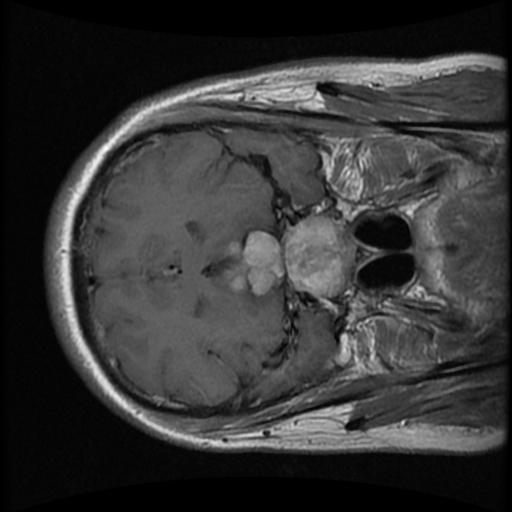pituitary tumour: (224, 214, 353, 298)
